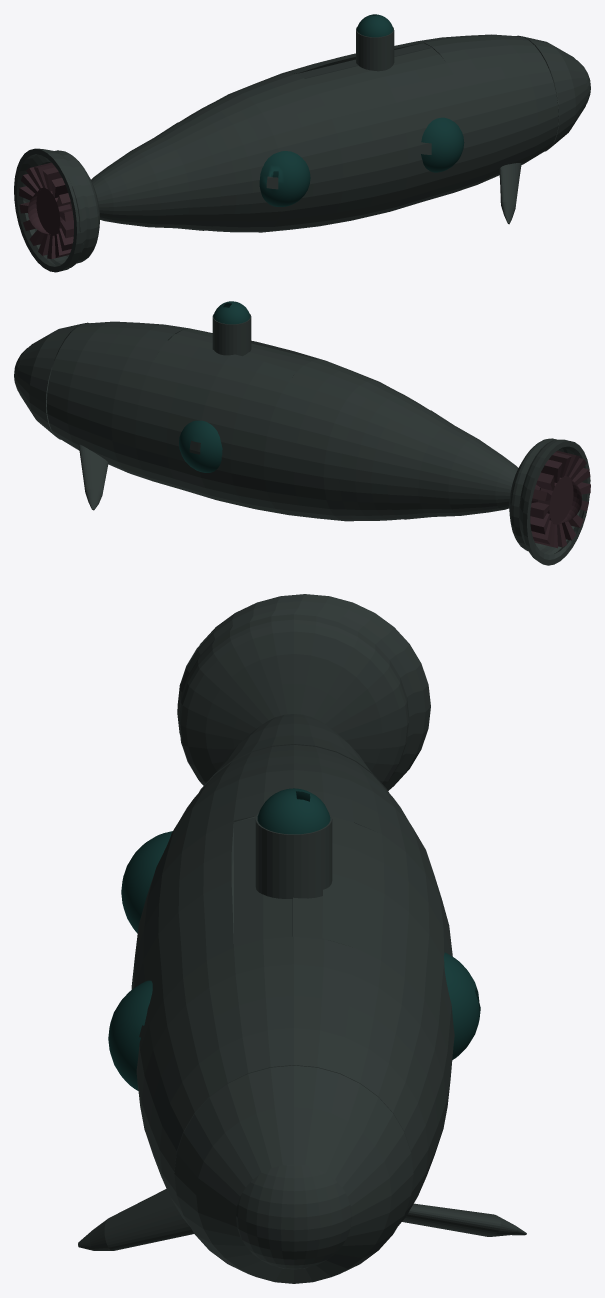
The model's file is DeepBoat.fbx.
The picture shows the model from 3 angles, top to bottom: view 1: azimuth 30°, elevation 25°; view 2: azimuth 150°, elevation 25°; view 3: azimuth 270°, elevation 25°; orthographic projection. The views are drawn at different scales.
Visible parts, largest first — view 1: Cylinder, Cylinder.001; view 2: Cylinder, Cylinder.001; view 3: Cylinder.
Boxes of the visible parts, bbox=[...] form: Cylinder: bbox=[14, 14, 590, 272]; Cylinder.001: bbox=[19, 162, 73, 259]; Cylinder: bbox=[14, 301, 590, 565]; Cylinder.001: bbox=[530, 450, 590, 548]; Cylinder: bbox=[78, 594, 526, 1283].
Bounding box in the file's own units: 1002 × 327 × 350.
